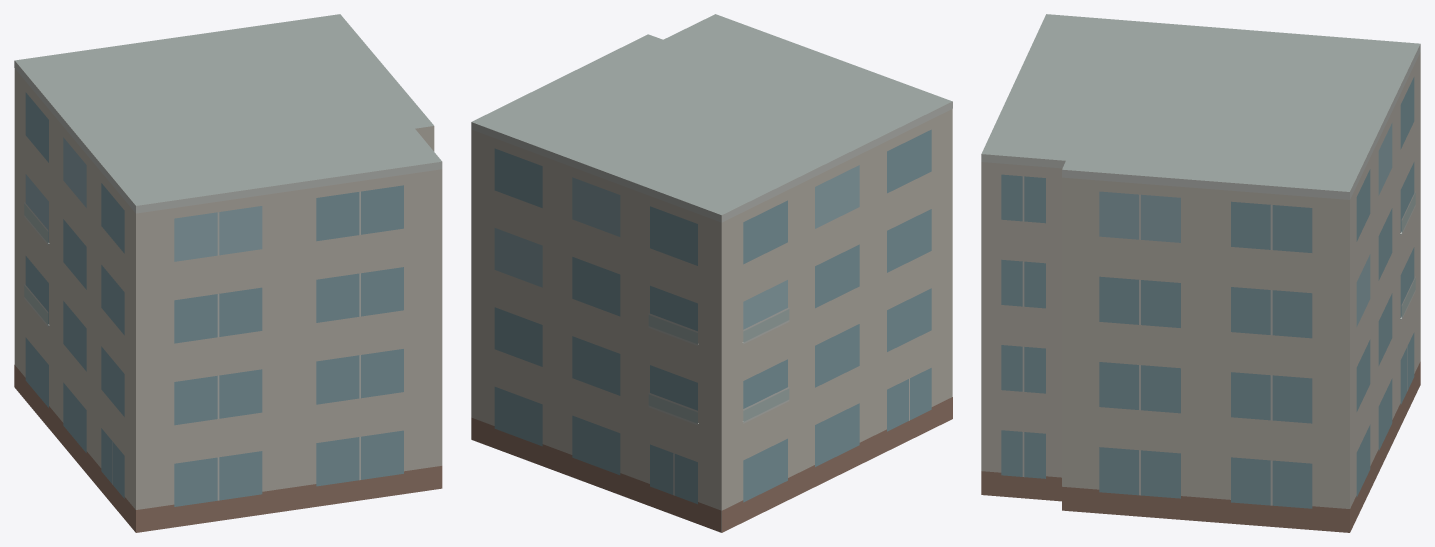
Rendered from survey-upis-32537000.glb.
3 views of the same model, side by side, from view 1: azimuth 30°, elevation 25°; view 2: azimuth 150°, elevation 25°; view 3: azimuth 270°, elevation 25° (orthographic). The views are drawn at different scales.
Visible parts, largest first — view 1: survey-upis-32537000.tmp; view 2: survey-upis-32537000.tmp; view 3: survey-upis-32537000.tmp.
Part boxes in pixels (x1,y1,x2,y2): survey-upis-32537000.tmp: (14, 14, 442, 532); survey-upis-32537000.tmp: (471, 14, 952, 532); survey-upis-32537000.tmp: (981, 14, 1420, 532).
Bounding box in the file's own units: 11.77 × 10.5 × 12.28.
